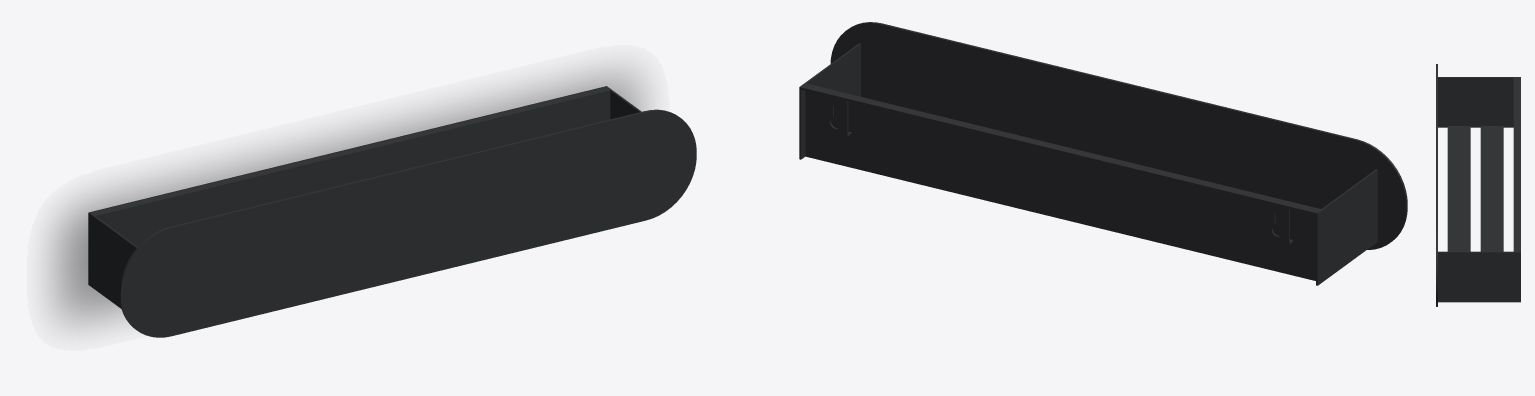
The model's file is round-mono.526ec16922.ar.glb.
3 views of the same model, side by side, from view 1: azimuth 30°, elevation 25°; view 2: azimuth 150°, elevation 25°; view 3: azimuth 270°, elevation 25° (orthographic). The views are drawn at different scales.
Parts seen in each view (by area): view 1: NAUO1, object 2; view 2: NAUO1; view 3: NAUO1.
Part boxes in pixels (x1,y1,x2,y2): NAUO1: [88, 86, 696, 337]; object 2: [49, 70, 646, 325]; NAUO1: [799, 22, 1407, 285]; NAUO1: [1436, 64, 1520, 306].
Size of the model in its own units: 0.58 by 0.17 by 0.092.
2 materials, 1 textured.
